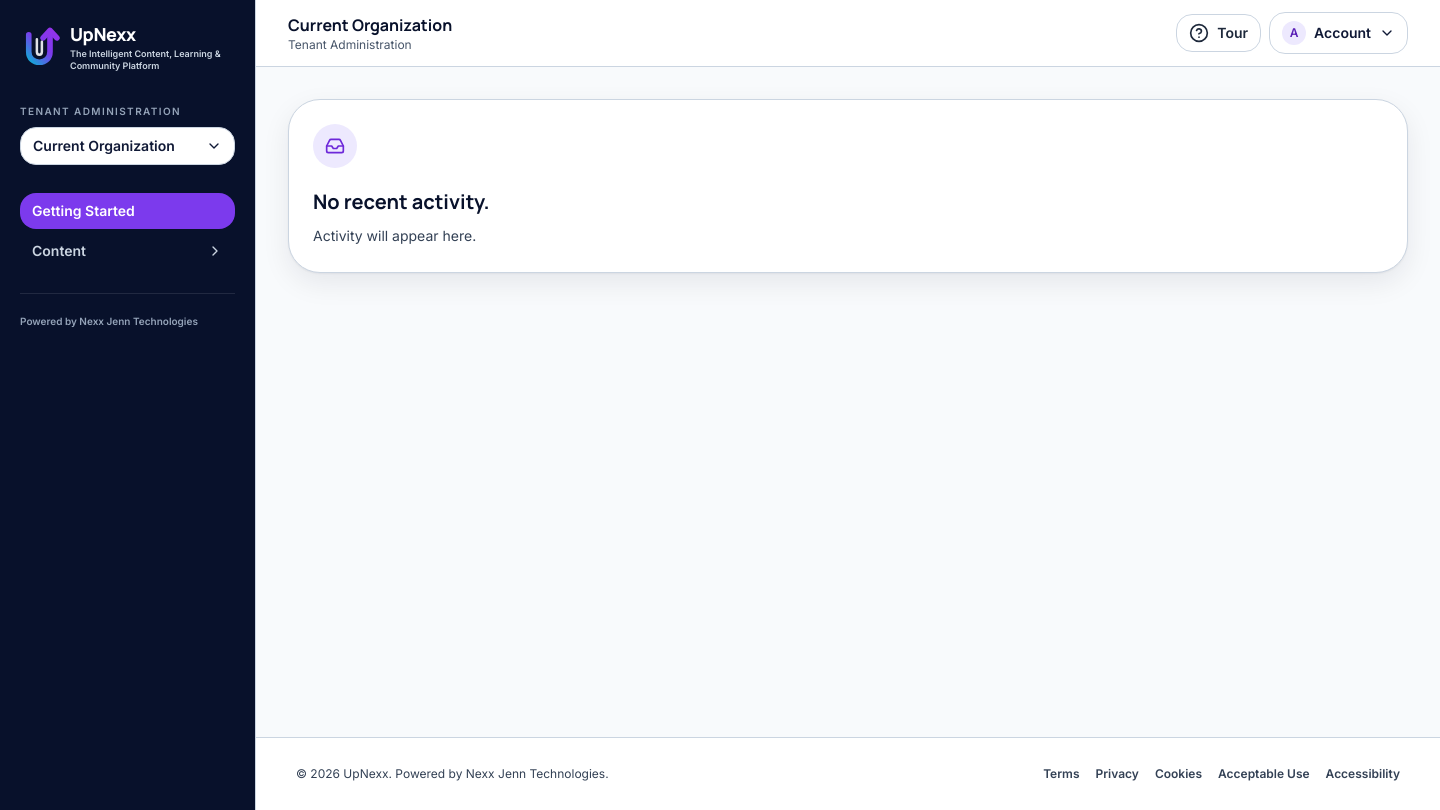
application integration surfaces › shows a clear plan message for a locked content module
Click the button "Content" at (128, 251), box x1=20 y1=233 x2=235 y2=269
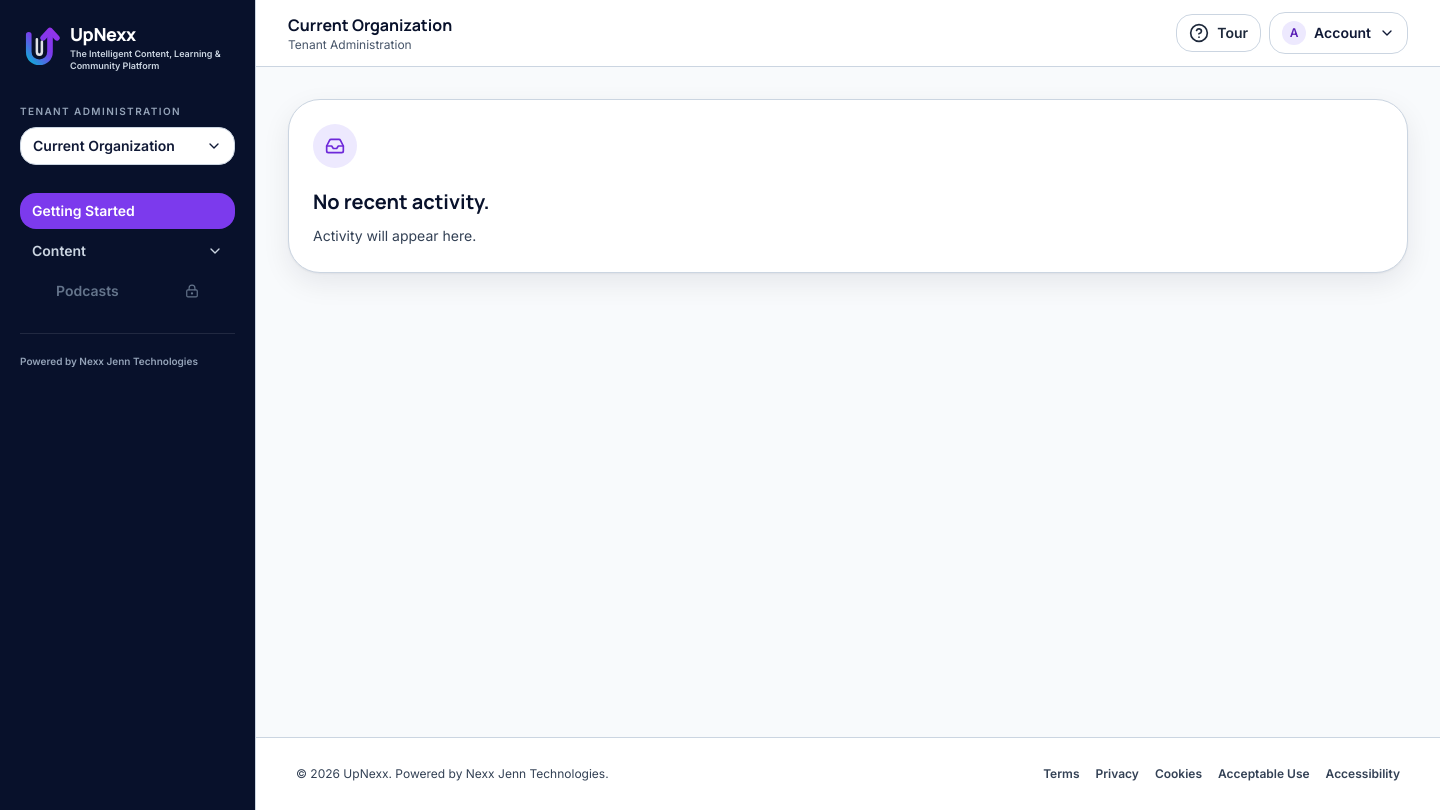
Click the link "Podcasts" at (87, 290), box x1=56 y1=282 x2=199 y2=299
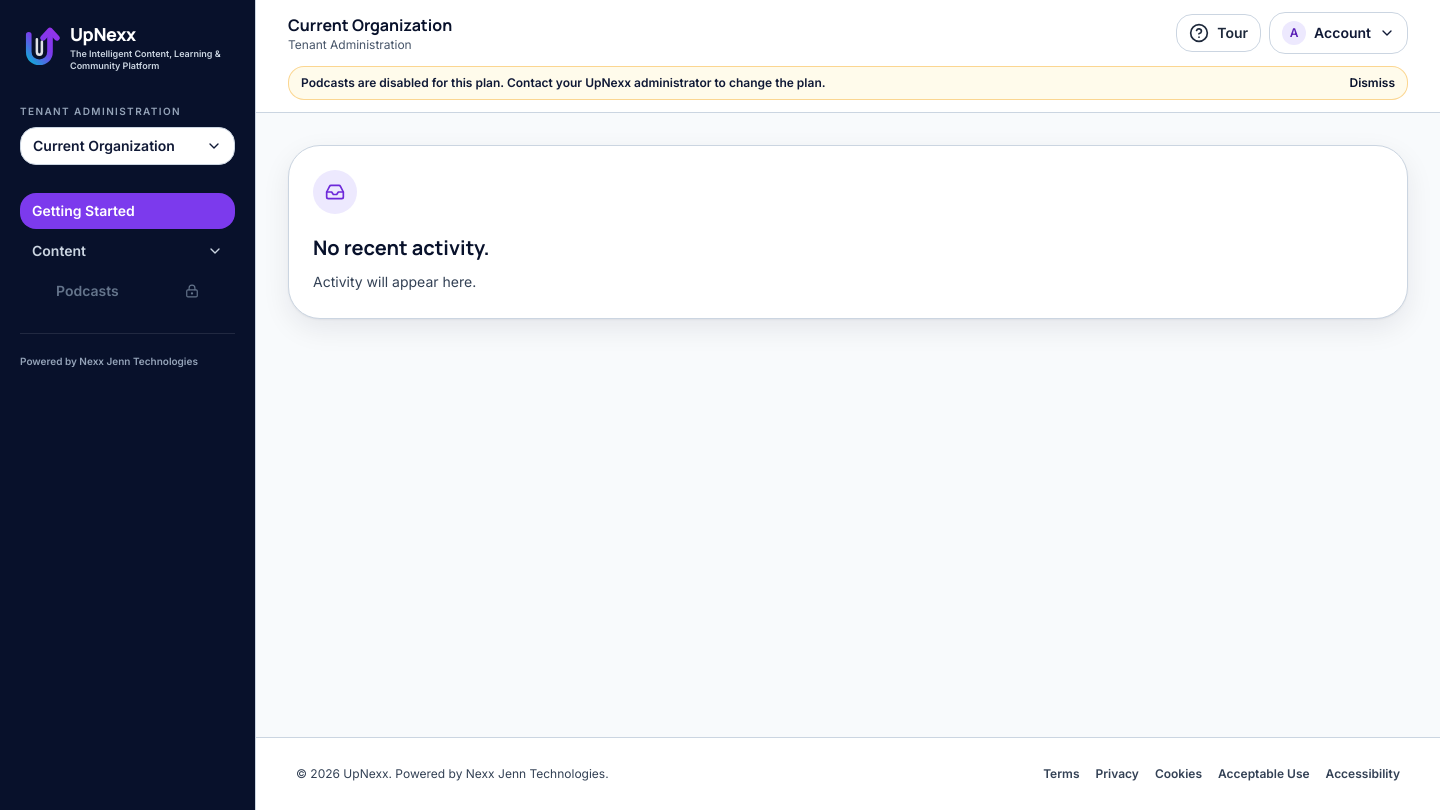
expect the message shows "Podcasts are disabled for this plan.": met, box x1=301 y1=75 x2=504 y2=90
expect the message shows "Contact your UpNexx administrator": met, box x1=504 y1=75 x2=826 y2=90
